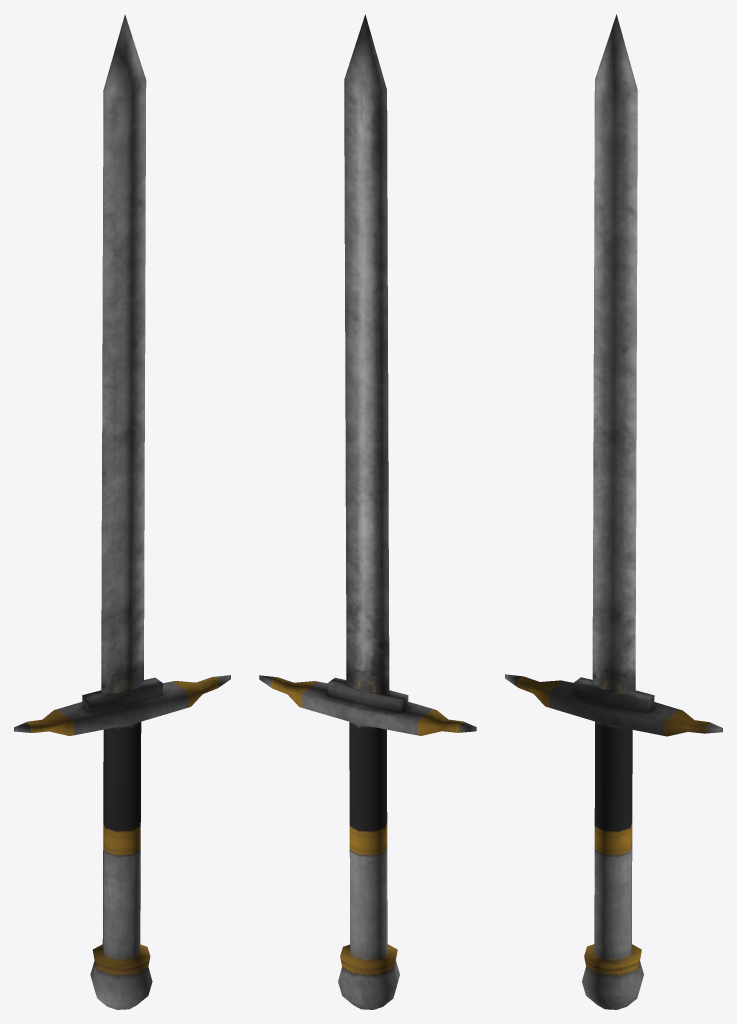
File: sword.fbx
The picture shows the model from 3 angles, left to right: view 1: azimuth 30°, elevation 25°; view 2: azimuth 150°, elevation 25°; view 3: azimuth 330°, elevation 25°; orthographic projection.
Visible parts, largest first — view 1: Paladin_J_Nordstrom_Sword; view 2: Paladin_J_Nordstrom_Sword; view 3: Paladin_J_Nordstrom_Sword.
Part boxes in pixels (x1,y1,x2,y2): Paladin_J_Nordstrom_Sword: [14, 14, 230, 1009]; Paladin_J_Nordstrom_Sword: [259, 14, 476, 1009]; Paladin_J_Nordstrom_Sword: [505, 14, 722, 1009].
Bounding box in the file's own units: 24.5 × 107 × 6.28.
Materials: 1 (1 with a texture image).
